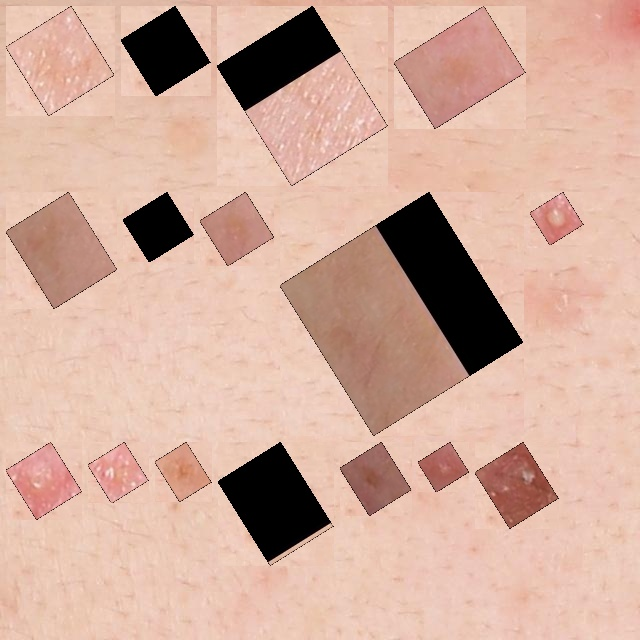melasma: (291, 203, 512, 424), (228, 17, 377, 174), (405, 17, 514, 117), (229, 453, 322, 554), (17, 203, 106, 297), (17, 17, 103, 104), (132, 17, 199, 85), (211, 203, 263, 255), (351, 453, 400, 504), (134, 203, 183, 251)
nevus: (166, 453, 200, 490)
pustule: (486, 453, 547, 517), (17, 453, 71, 508), (99, 453, 137, 492), (541, 203, 572, 234), (429, 453, 458, 481)
